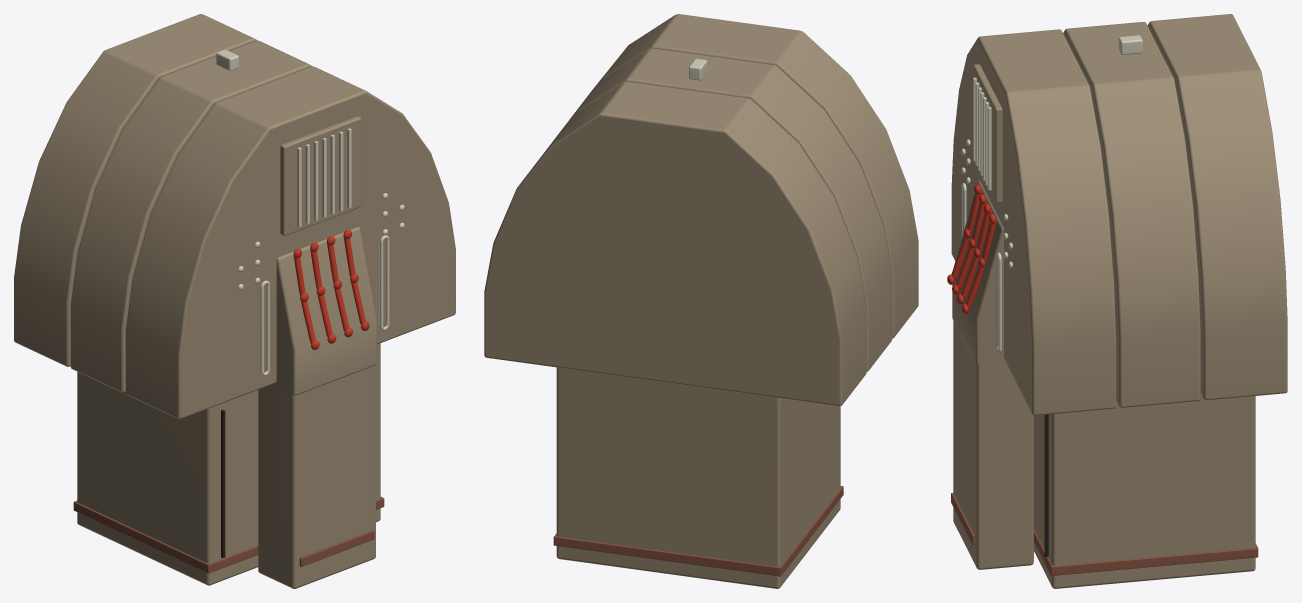
File: improved-sensors.glb
3 renders of one model, left to right at view 1: azimuth 30°, elevation 25°; view 2: azimuth 150°, elevation 25°; view 3: azimuth 270°, elevation 25°, orthographic. The views are drawn at different scales.
Visible parts, largest first — view 1: Arched sensor casing panel 0, Lower sensor cabinet, Arched sensor casing panel 2, Arched sensor casing panel 1, Central data collector pedestal, Sloped collector and integrator housing, Calibration control and output plate, Faded lower cabinet band, Right shielding coil, Collector faded lower marking, Left shielding coil, Lower cabinet vertical seam; view 2: Arched sensor casing panel 2, Lower sensor cabinet, Arched sensor casing panel 0, Arched sensor casing panel 1, Faded lower cabinet band; view 3: Arched sensor casing panel 0, Lower sensor cabinet, Arched sensor casing panel 2, Arched sensor casing panel 1, Central data collector pedestal, Sloped collector and integrator housing, Faded lower cabinet band, Calibration control and output plate, Lower cabinet vertical seam.001, Right shielding coil, Small top case fixing.
Boxes of the visible parts, x1,y1,x2,y2 form: Arched sensor casing panel 0: [125, 66, 455, 419]; Lower sensor cabinet: [77, 343, 380, 585]; Arched sensor casing panel 2: [14, 14, 257, 366]; Arched sensor casing panel 1: [70, 40, 312, 392]; Central data collector pedestal: [258, 365, 375, 588]; Sloped collector and integrator housing: [274, 227, 376, 395]; Calibration control and output plate: [280, 116, 361, 235]; Faded lower cabinet band: [73, 497, 384, 573]; Right shielding coil: [379, 235, 389, 330]; Collector faded lower marking: [299, 530, 374, 566]; Left shielding coil: [260, 280, 269, 376]; Lower cabinet vertical seam: [221, 409, 225, 557]; Arched sensor casing panel 2: [484, 81, 866, 406]; Lower sensor cabinet: [556, 367, 840, 588]; Arched sensor casing panel 0: [569, 14, 918, 338]; Arched sensor casing panel 1: [544, 48, 892, 371]; Faded lower cabinet band: [553, 486, 843, 576]; Arched sensor casing panel 0: [951, 29, 1116, 415]; Lower sensor cabinet: [1034, 393, 1255, 588]; Arched sensor casing panel 2: [1147, 14, 1287, 400]; Arched sensor casing panel 1: [1063, 22, 1200, 407]; Central data collector pedestal: [953, 321, 1033, 569]; Sloped collector and integrator housing: [952, 180, 1005, 366]; Faded lower cabinet band: [1034, 530, 1258, 575]; Calibration control and output plate: [973, 64, 1002, 202]; Lower cabinet vertical seam.001: [1044, 414, 1048, 556]; Right shielding coil: [996, 252, 1001, 353]; Small top case fixing: [1118, 35, 1142, 54].
Size of the model in its own units: 2.31 by 2.87 by 1.8.
